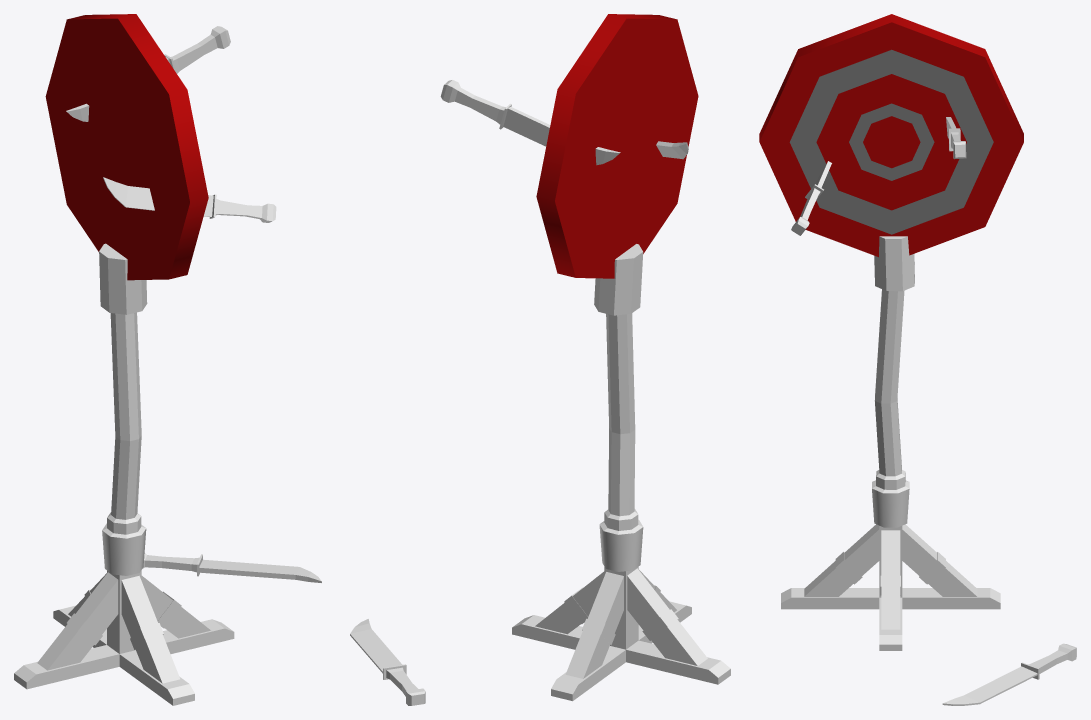
File: SM_cible_THD_1.fbx
3 renders of one model, left to right at view 1: azimuth 30°, elevation 25°; view 2: azimuth 150°, elevation 25°; view 3: azimuth 270°, elevation 25°, orthographic. The views are drawn at different scales.
Parts seen in each view (by area): view 1: Cylinder035, Cylinder034, Box057, Box053, Box055, Box060, Box059, Box058, Box054, Box056; view 2: Cylinder035, Cylinder034, Box057, Box056, Box055, Box058, Box060, Box054; view 3: Cylinder035, Cylinder034, Box053, Box056, Box055, Box060, Box059, Box058.
Boxes of the visible parts, <box> form: Cylinder035: <box>45,14,208,280</box>; Cylinder034: <box>99,243,147,575</box>; Box057: <box>14,572,119,689</box>; Box053: <box>119,575,194,705</box>; Box055: <box>141,576,234,653</box>; Box060: <box>142,553,321,582</box>; Box059: <box>103,177,276,222</box>; Box058: <box>66,26,230,121</box>; Box054: <box>107,570,141,653</box>; Box056: <box>53,573,106,647</box>; Cylinder035: <box>536,14,698,278</box>; Cylinder034: <box>594,244,643,571</box>; Box057: <box>626,568,730,684</box>; Box056: <box>551,572,625,701</box>; Box055: <box>512,571,604,649</box>; Box058: <box>440,80,620,165</box>; Box060: <box>350,619,425,705</box>; Box054: <box>604,567,638,649</box>; Cylinder035: <box>759,14,1023,257</box>; Cylinder034: <box>872,236,914,527</box>; Box053: <box>781,524,879,609</box>; Box056: <box>902,524,1000,609</box>; Box055: <box>879,530,902,650</box>; Box060: <box>942,643,1076,705</box>; Box059: <box>791,161,831,235</box>; Box058: <box>946,117,966,159</box>.
Size of the model in its own units: 1.05 by 1.96 by 0.9522.
